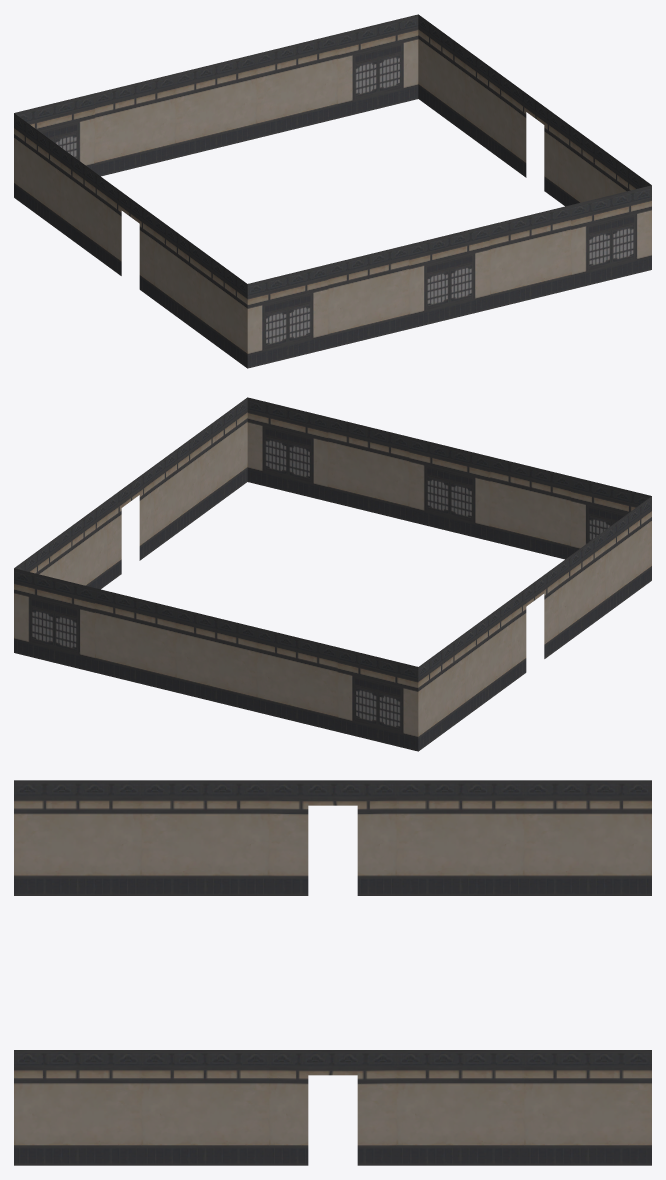
File: Homeworld_Interior_Dq_Room_Q_Filling_01_Vo.fbx
3 views of the same model, one above another, from view 1: azimuth 30°, elevation 25°; view 2: azimuth 150°, elevation 25°; view 3: azimuth 270°, elevation 25° (orthographic). The views are drawn at different scales.
Visible parts, largest first — view 1: Homeworld_Interior_Dq_Room_Q_Filling_01_Vo; view 2: Homeworld_Interior_Dq_Room_Q_Filling_01_Vo; view 3: Homeworld_Interior_Dq_Room_Q_Filling_01_Vo.
Part boxes in pixels (<box>): Homeworld_Interior_Dq_Room_Q_Filling_01_Vo: <box>14,14,651,368</box>; Homeworld_Interior_Dq_Room_Q_Filling_01_Vo: <box>14,397,651,751</box>; Homeworld_Interior_Dq_Room_Q_Filling_01_Vo: <box>14,780,651,1165</box>.
Size of the model in its own units: 25 by 5 by 25.
